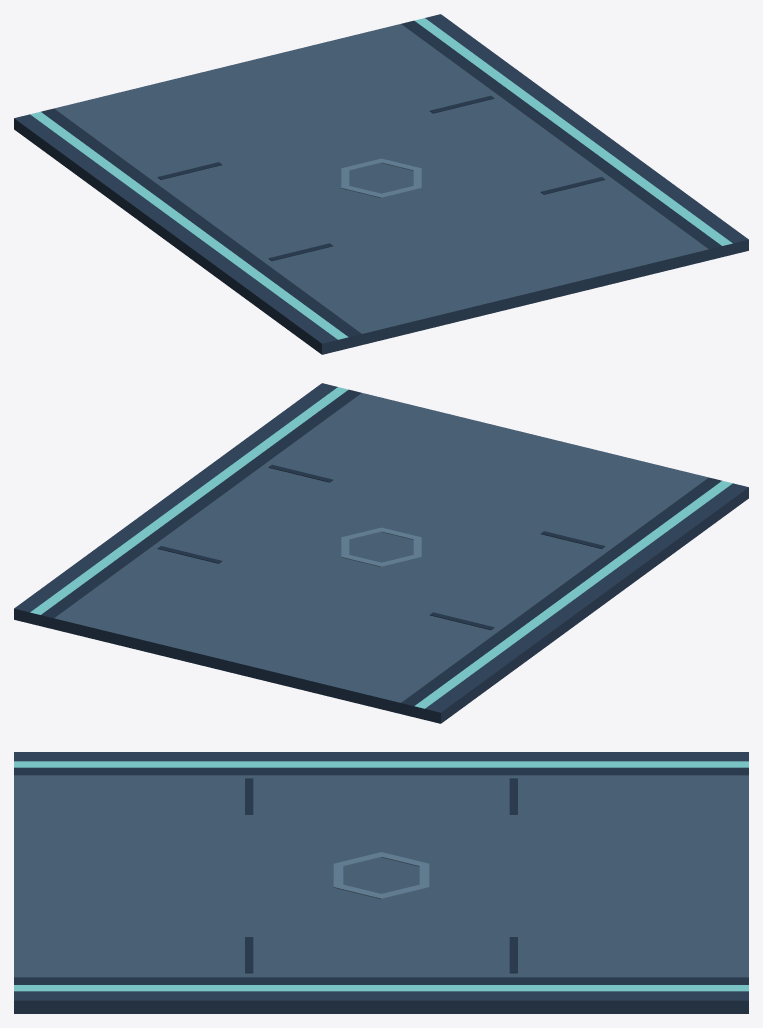
Rendered from campus_walk_straight_v01.glb.
3 views of the same model, one above another, from view 1: azimuth 30°, elevation 25°; view 2: azimuth 150°, elevation 25°; view 3: azimuth 270°, elevation 25° (orthographic). The views are drawn at different scales.
Visible parts, largest first — view 1: campus_walk_straight; view 2: campus_walk_straight; view 3: campus_walk_straight.
Part boxes in pixels (x1=…): campus_walk_straight: x1=14, y1=14, x2=748, y2=354; campus_walk_straight: x1=14, y1=383, x2=748, y2=723; campus_walk_straight: x1=14, y1=752, x2=748, y2=1013.
Bounding box in the file's own units: 3.2 × 0.086 × 4.
Materials: 1 (1 with a texture image).
